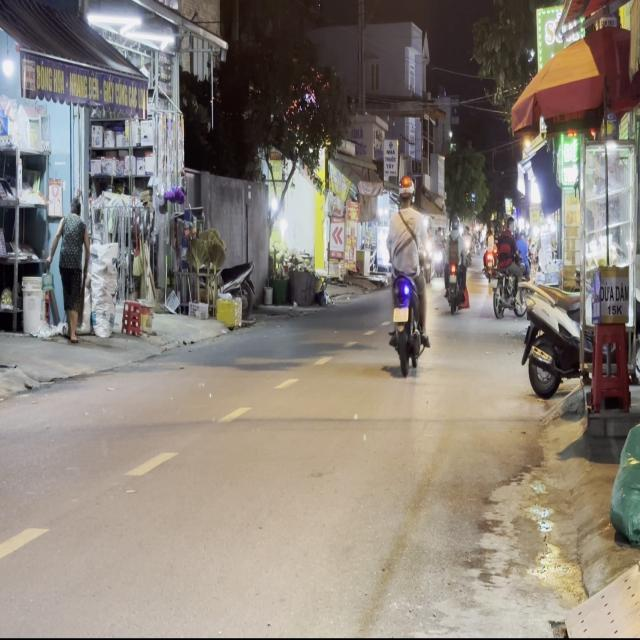helmet: (396, 174, 414, 206)
licenseplate: (383, 172, 430, 373)
nohelmet: (393, 306, 407, 320)
